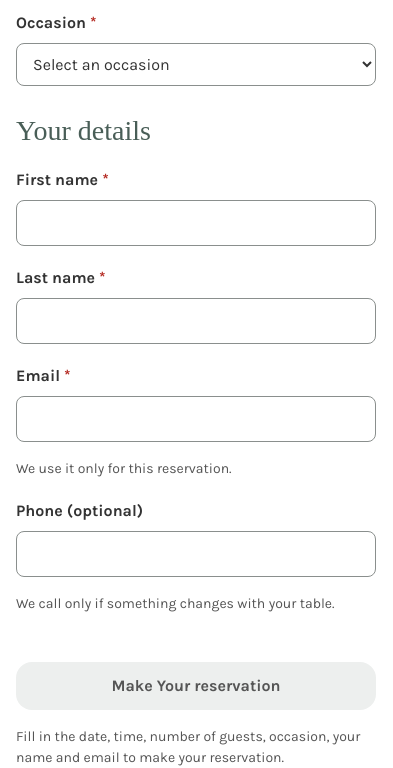
Test case: Customer details › Email = "ana@" shows a warning
(page scrolled)
In the field labelled "Email": (196, 419) [16,396,376,442], type "ana@"
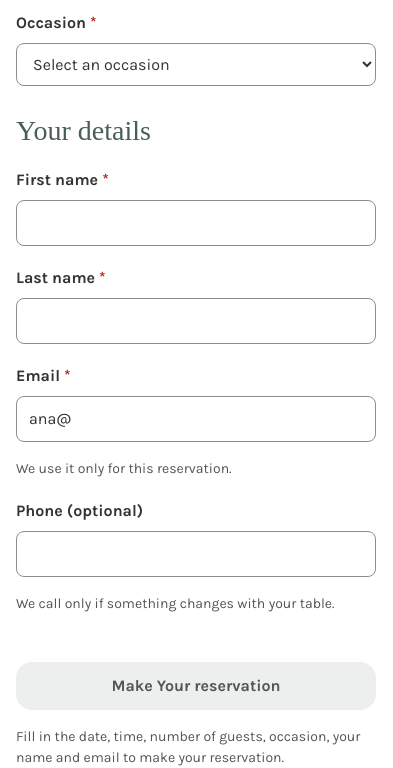
Leave the field labelled "Email", box [16,396,376,442]
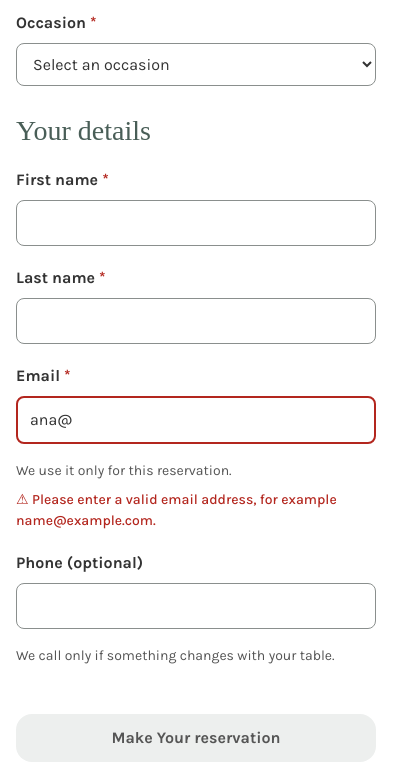
Expected: the text "Please enter a valid email address, for example name@example.com." is shown, [16,489,376,531]
